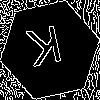K: (25, 25, 66, 77)
